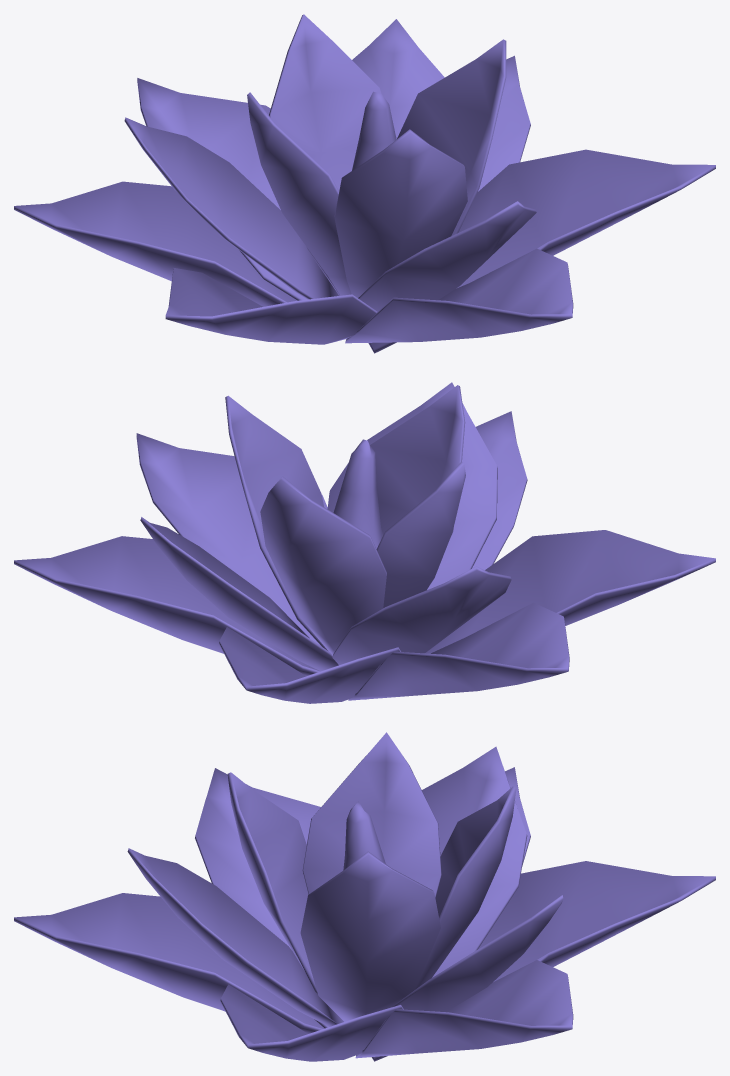
File: Cactus_Leafy_01.fbx
The picture shows the model from 3 angles, top to bottom: view 1: azimuth 30°, elevation 25°; view 2: azimuth 150°, elevation 25°; view 3: azimuth 270°, elevation 25°; orthographic projection.
Visible parts, largest first — view 1: Cactus_Leafy_01; view 2: Cactus_Leafy_01; view 3: Cactus_Leafy_01.
Boxes of the visible parts, x1,y1,x2,y2 form: Cactus_Leafy_01: [14, 14, 715, 353]; Cactus_Leafy_01: [14, 382, 715, 703]; Cactus_Leafy_01: [14, 732, 715, 1061].
Bounding box in the file's own units: 116 × 53.44 × 125.
